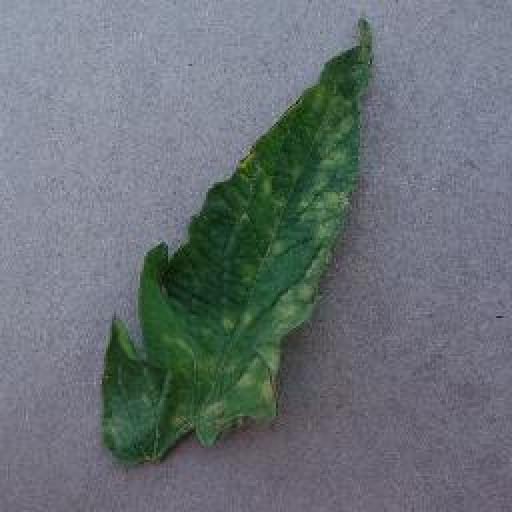disease_tomato: (95, 20, 376, 468)
